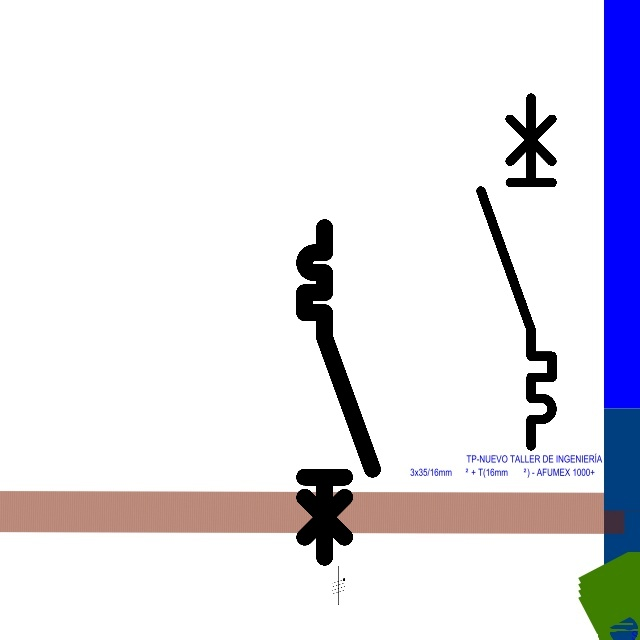interruptor_termomagnetico: (472, 89, 561, 455), (296, 219, 381, 566)
